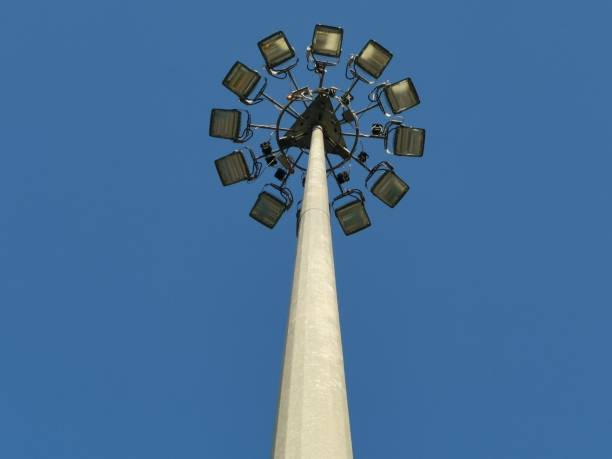light_pole: (270, 136, 358, 459)
